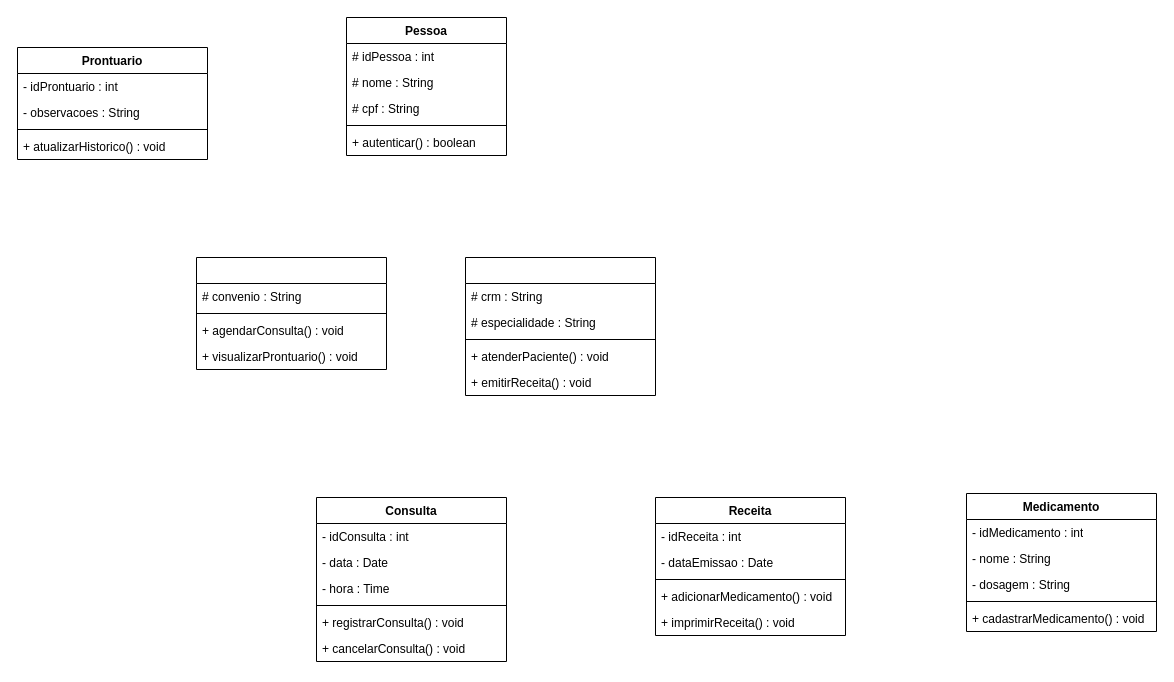
Image size: 1174x682. Some labels were removed from this diagram. Each missing label, with the box of its shape:
Medico: (464, 256, 656, 396)
Paciente: (196, 256, 386, 370)
